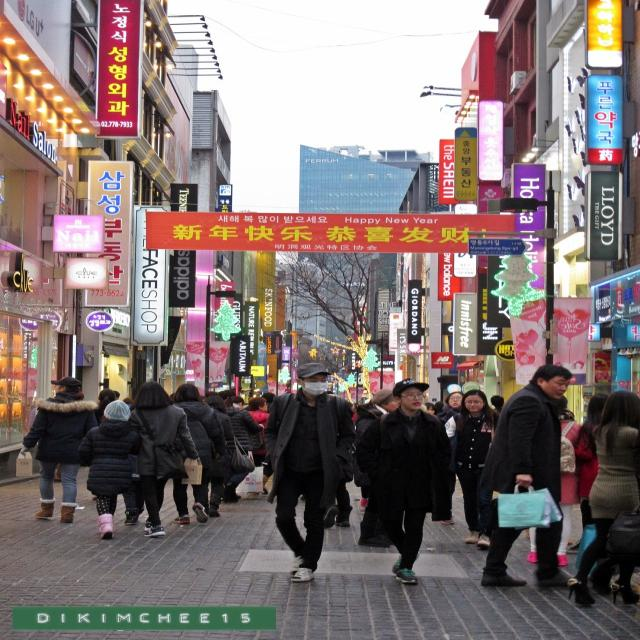body: (473, 363, 575, 591), (259, 361, 355, 585), (359, 376, 457, 587), (562, 382, 639, 608), (17, 375, 101, 525), (118, 383, 197, 540), (74, 398, 147, 542), (526, 393, 580, 567), (445, 389, 499, 547), (353, 387, 404, 549), (171, 382, 227, 524), (319, 389, 356, 530), (572, 394, 610, 531), (222, 395, 265, 503), (199, 394, 236, 518), (246, 396, 271, 468), (435, 390, 468, 426), (91, 385, 123, 401), (424, 396, 446, 414), (488, 390, 506, 408)
